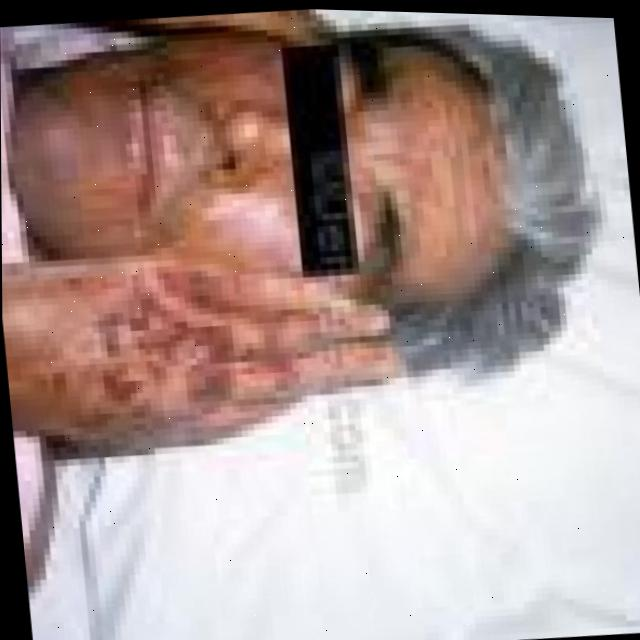Melasma: (102, 290, 255, 437)
